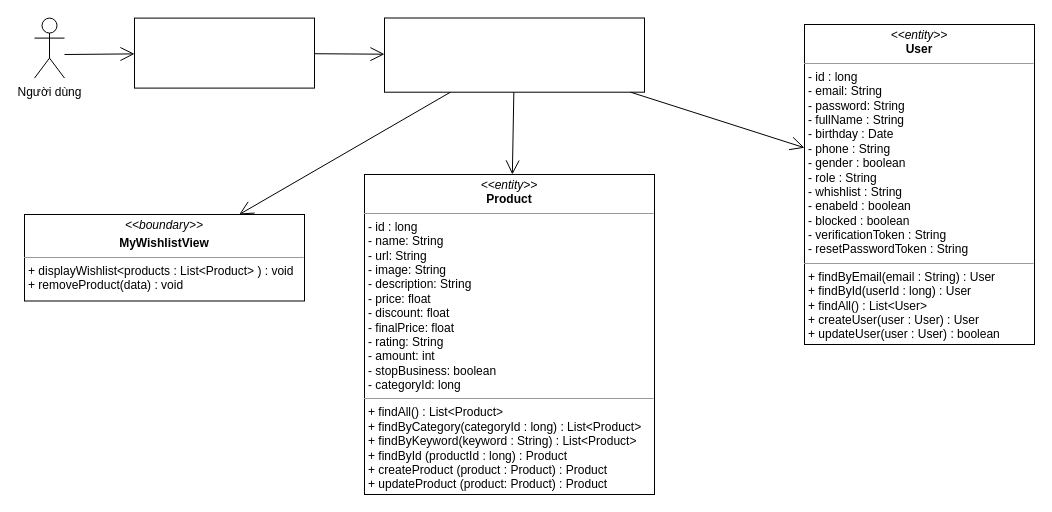
The diagram is 1052 pixels wide and 512 high, and some of its shapes have lost their labels. Here are the shapes that lost their labels. From the top down, the centre of each, then its label:
[224,52]: <<boundary>> HomePageView + viewWishlist() : void
[514,54]: <<control>> AccountController + getWishlist(userId: long) : List<Product>
